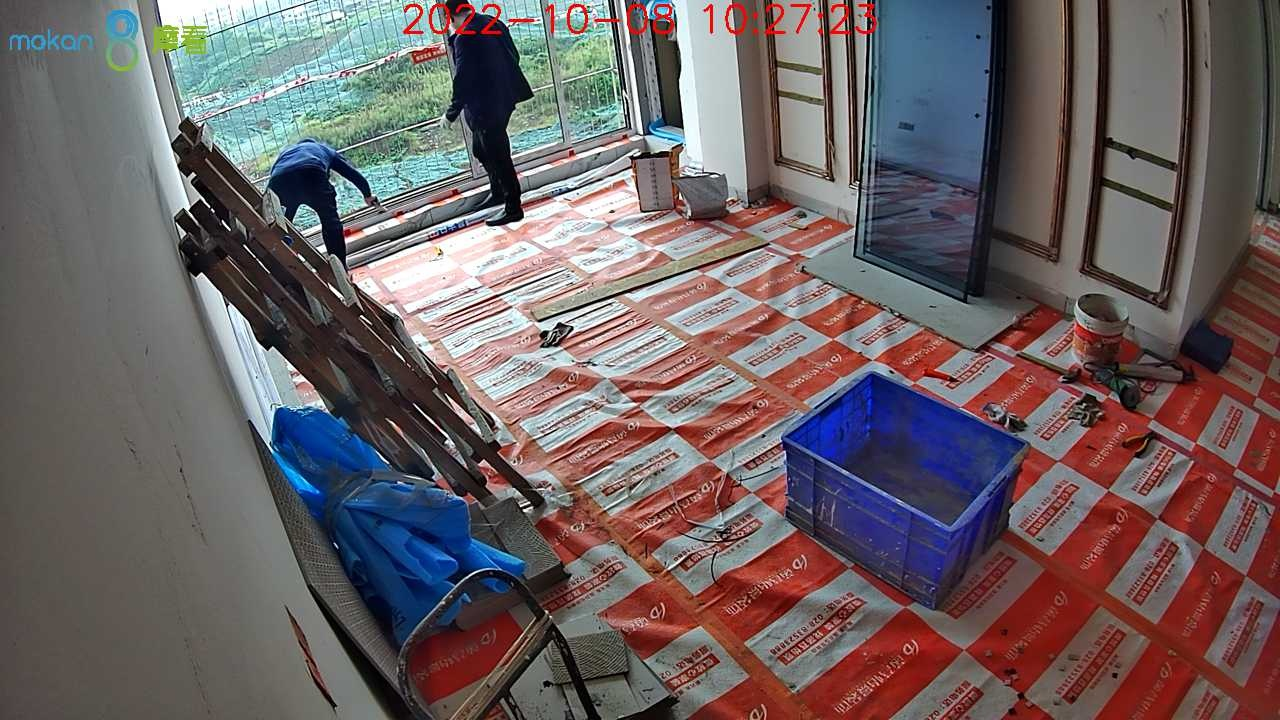people: (441, 2, 534, 229), (267, 138, 384, 284)
window: (152, 2, 644, 245)
